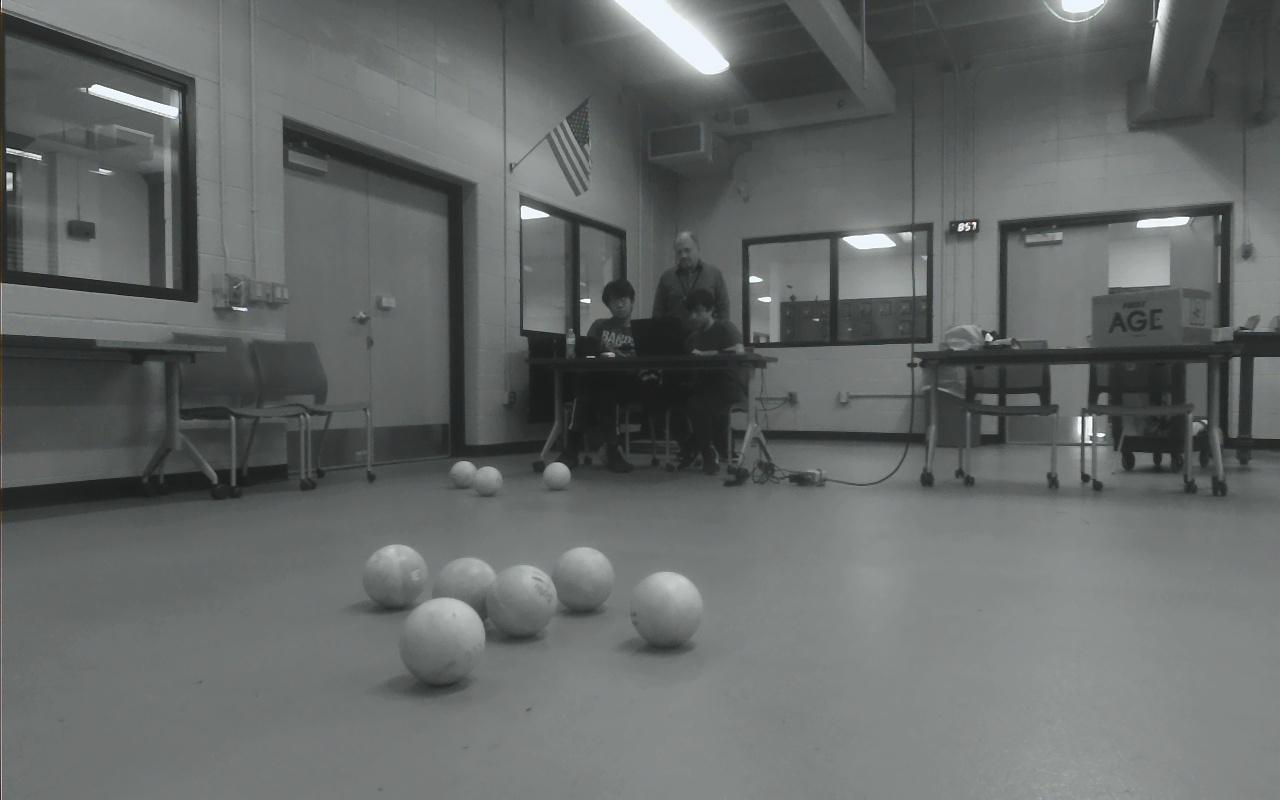Fuel: (399, 597, 485, 687), (630, 570, 703, 649), (485, 564, 557, 638), (361, 544, 428, 611), (433, 556, 498, 624), (550, 546, 614, 614), (472, 466, 502, 497), (543, 462, 571, 490), (449, 460, 477, 488)
